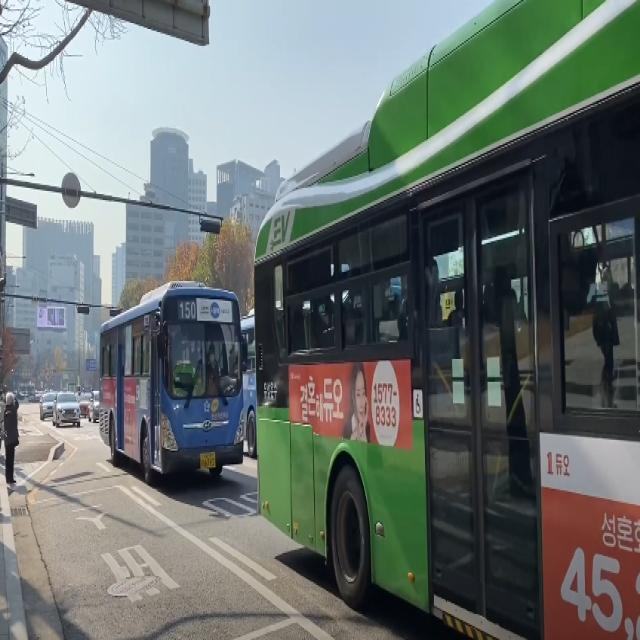bus-number: (179, 300, 197, 321)
